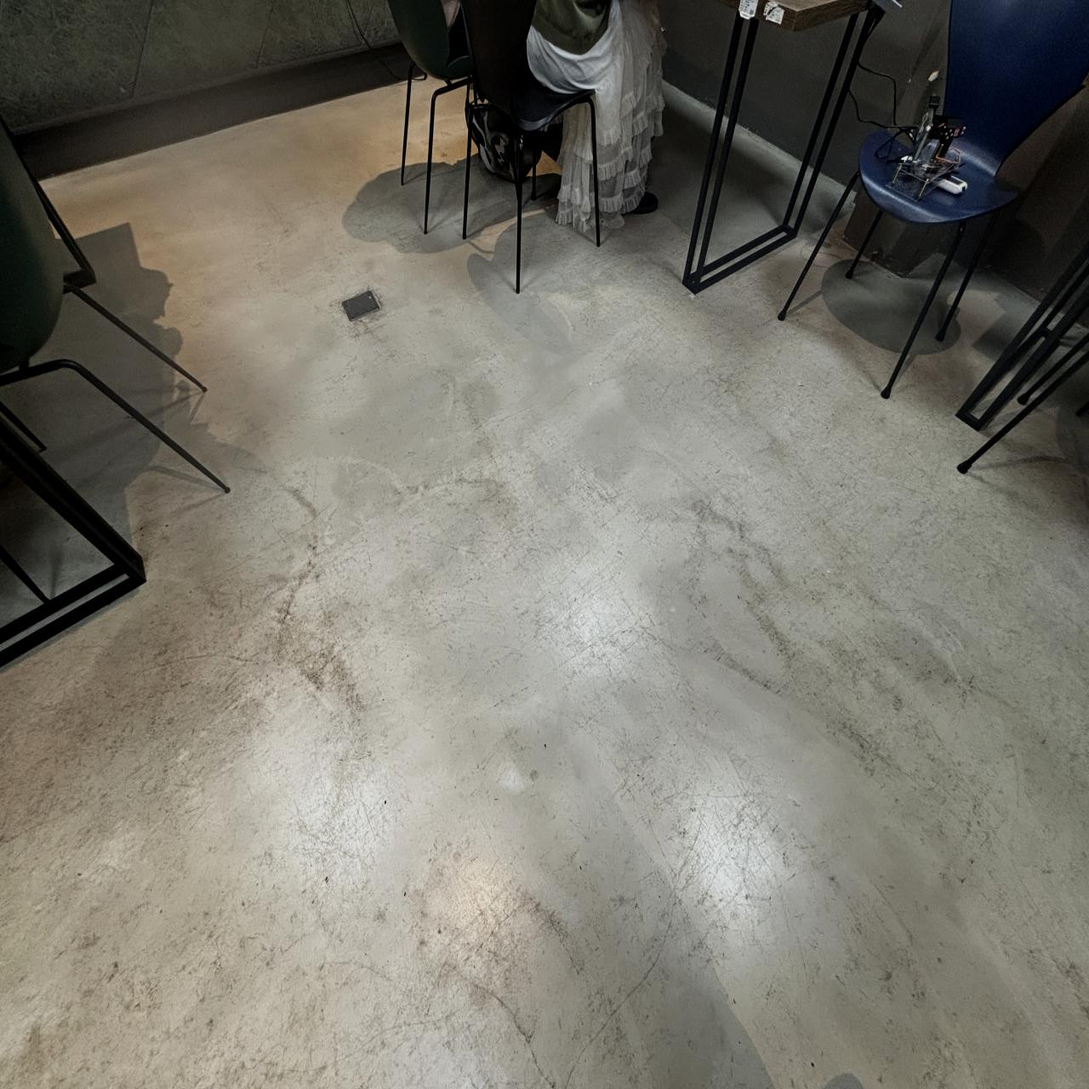person: (527, 0, 664, 225)
